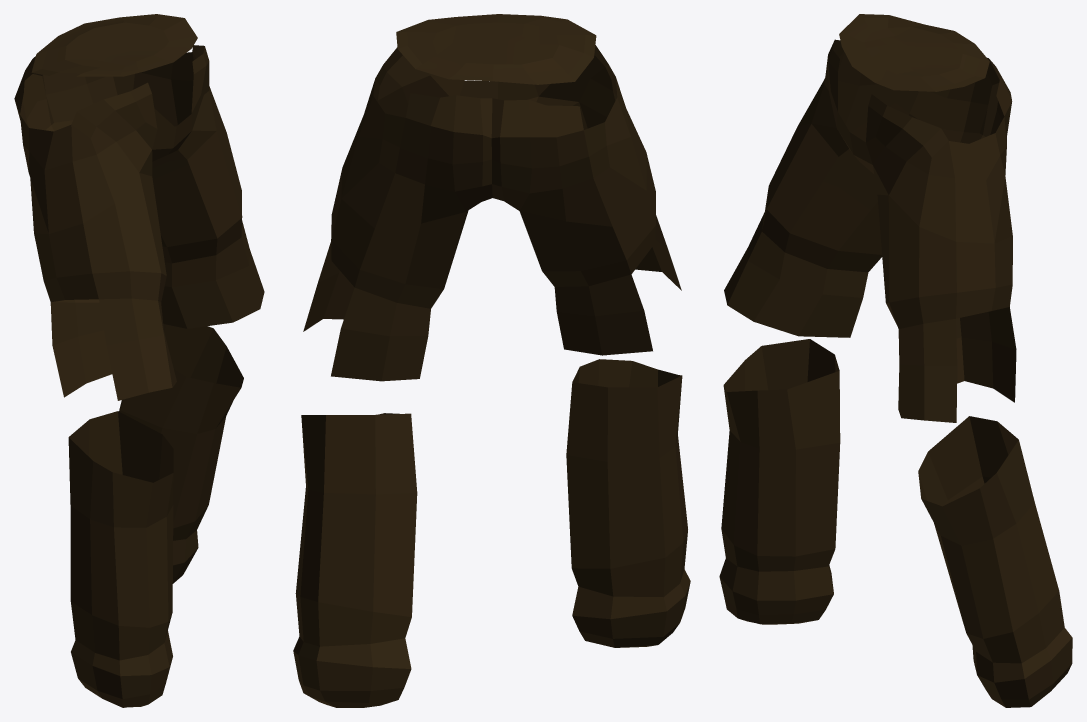
Rendered from Brown.obj.
3 views of the same model, side by side, from view 1: azimuth 30°, elevation 25°; view 2: azimuth 150°, elevation 25°; view 3: azimuth 270°, elevation 25° (orthographic). The views are drawn at different scales.
Size of the model in its own units: 0.3986 by 0.8756 by 0.4604.
